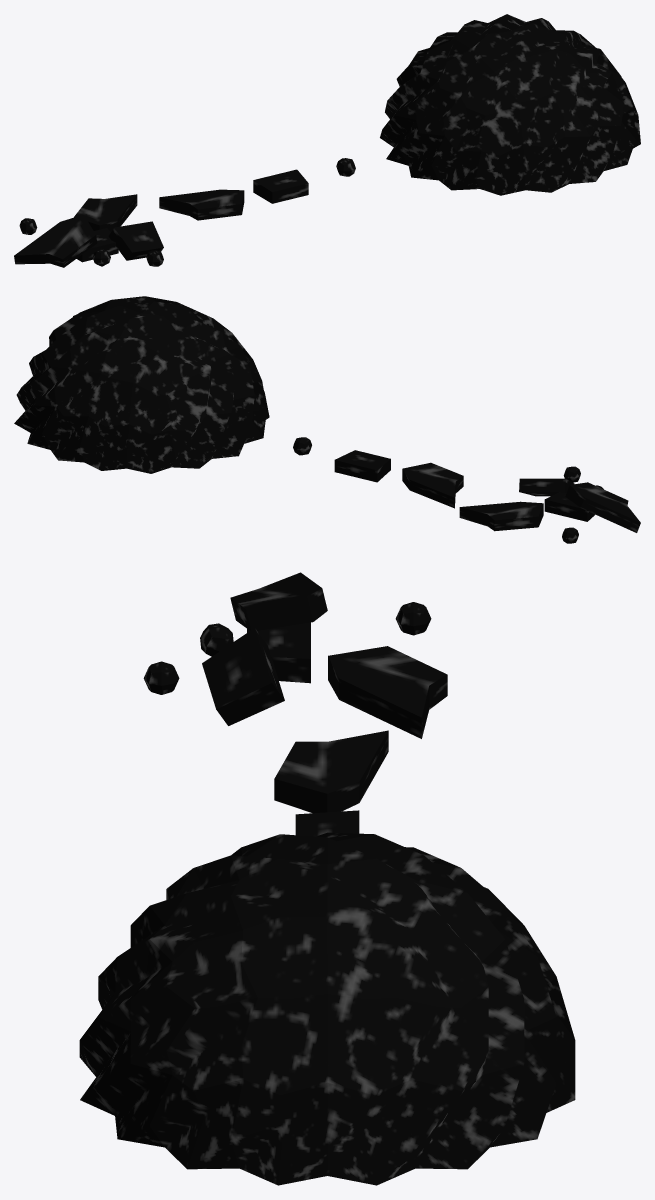
Rendered from Coal 1.fbx.
3 renders of one model, top to bottom at view 1: azimuth 30°, elevation 25°; view 2: azimuth 150°, elevation 25°; view 3: azimuth 270°, elevation 25°, orthographic. The views are drawn at different scales.
Visible parts, largest first — view 1: Coal2, Coal5, Coal4, Coal3; view 2: Coal2, Coal5, Coal4, Coal3; view 3: Coal2, Coal5, Coal4, Coal3.
Boxes of the visible parts, <box> form: Coal2: <box>380,14,640,195</box>; Coal5: <box>14,194,163,267</box>; Coal4: <box>159,189,244,220</box>; Coal3: <box>253,169,308,203</box>; Coal2: <box>14,296,269,473</box>; Coal5: <box>459,466,640,543</box>; Coal4: <box>402,462,463,508</box>; Coal3: <box>334,450,390,482</box>; Coal2: <box>79,832,575,1185</box>; Coal5: <box>143,572,447,738</box>; Coal4: <box>274,730,388,813</box>; Coal3: <box>295,810,359,836</box>.
Size of the model in its own units: 2.82 by 0.5097 by 1.
